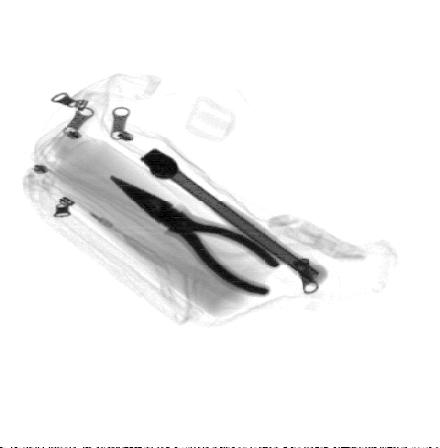Hammer: (139, 149, 329, 286)
Pliers: (111, 175, 283, 297)
